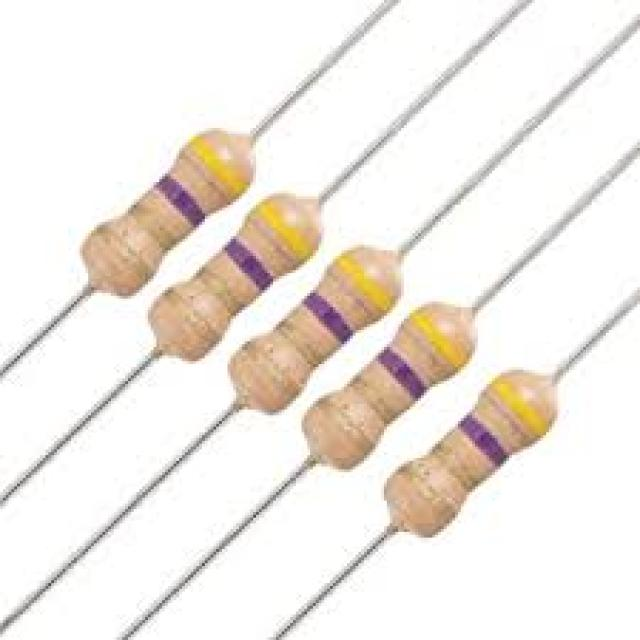Resistor: (80, 124, 253, 294), (150, 191, 322, 360), (386, 368, 557, 536), (231, 244, 400, 413), (306, 300, 472, 467)
